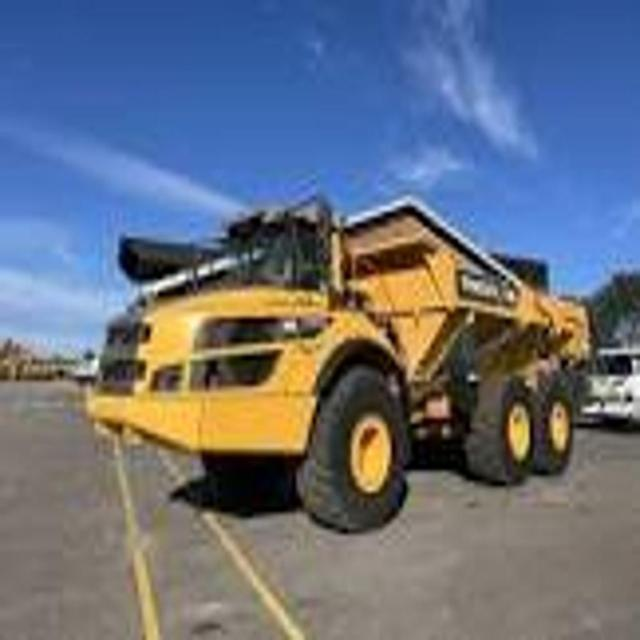dump_truck: (88, 186, 596, 532)
